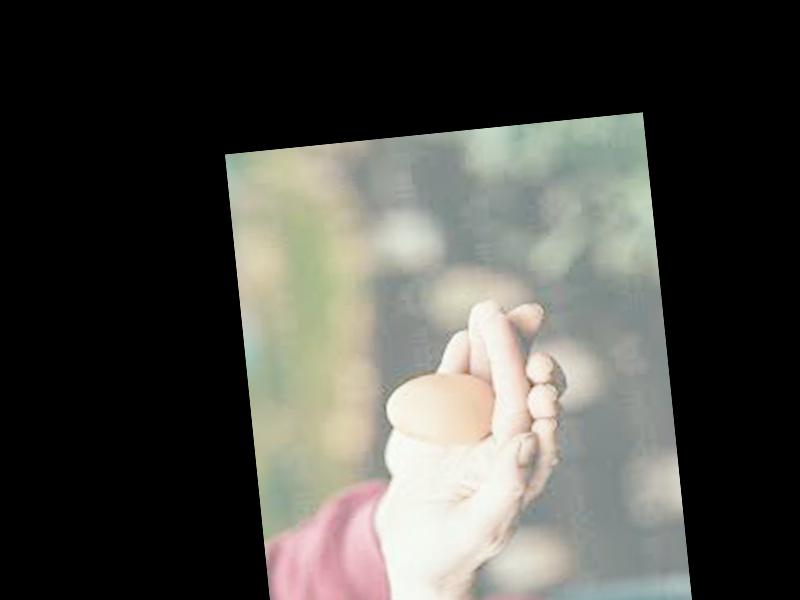Eggs: (384, 369, 496, 451)
